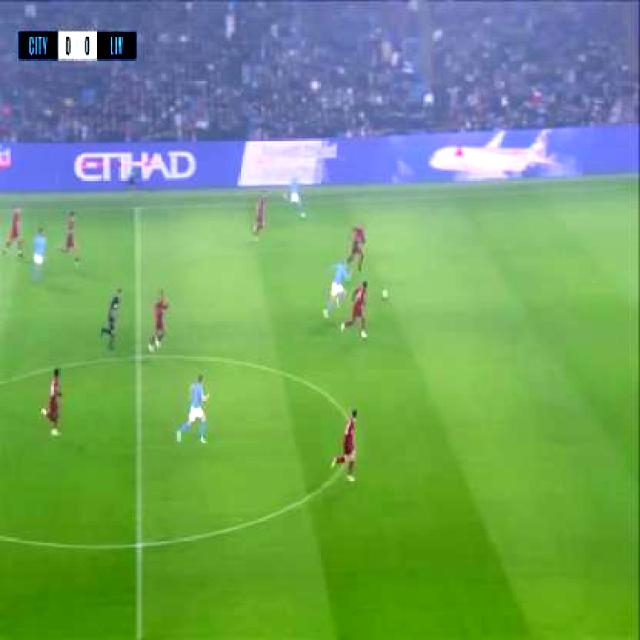halfcircle_bottom: (128, 530, 152, 562)
halfcircle_top: (128, 340, 149, 371)
midline_top_intersection: (130, 195, 144, 223)
